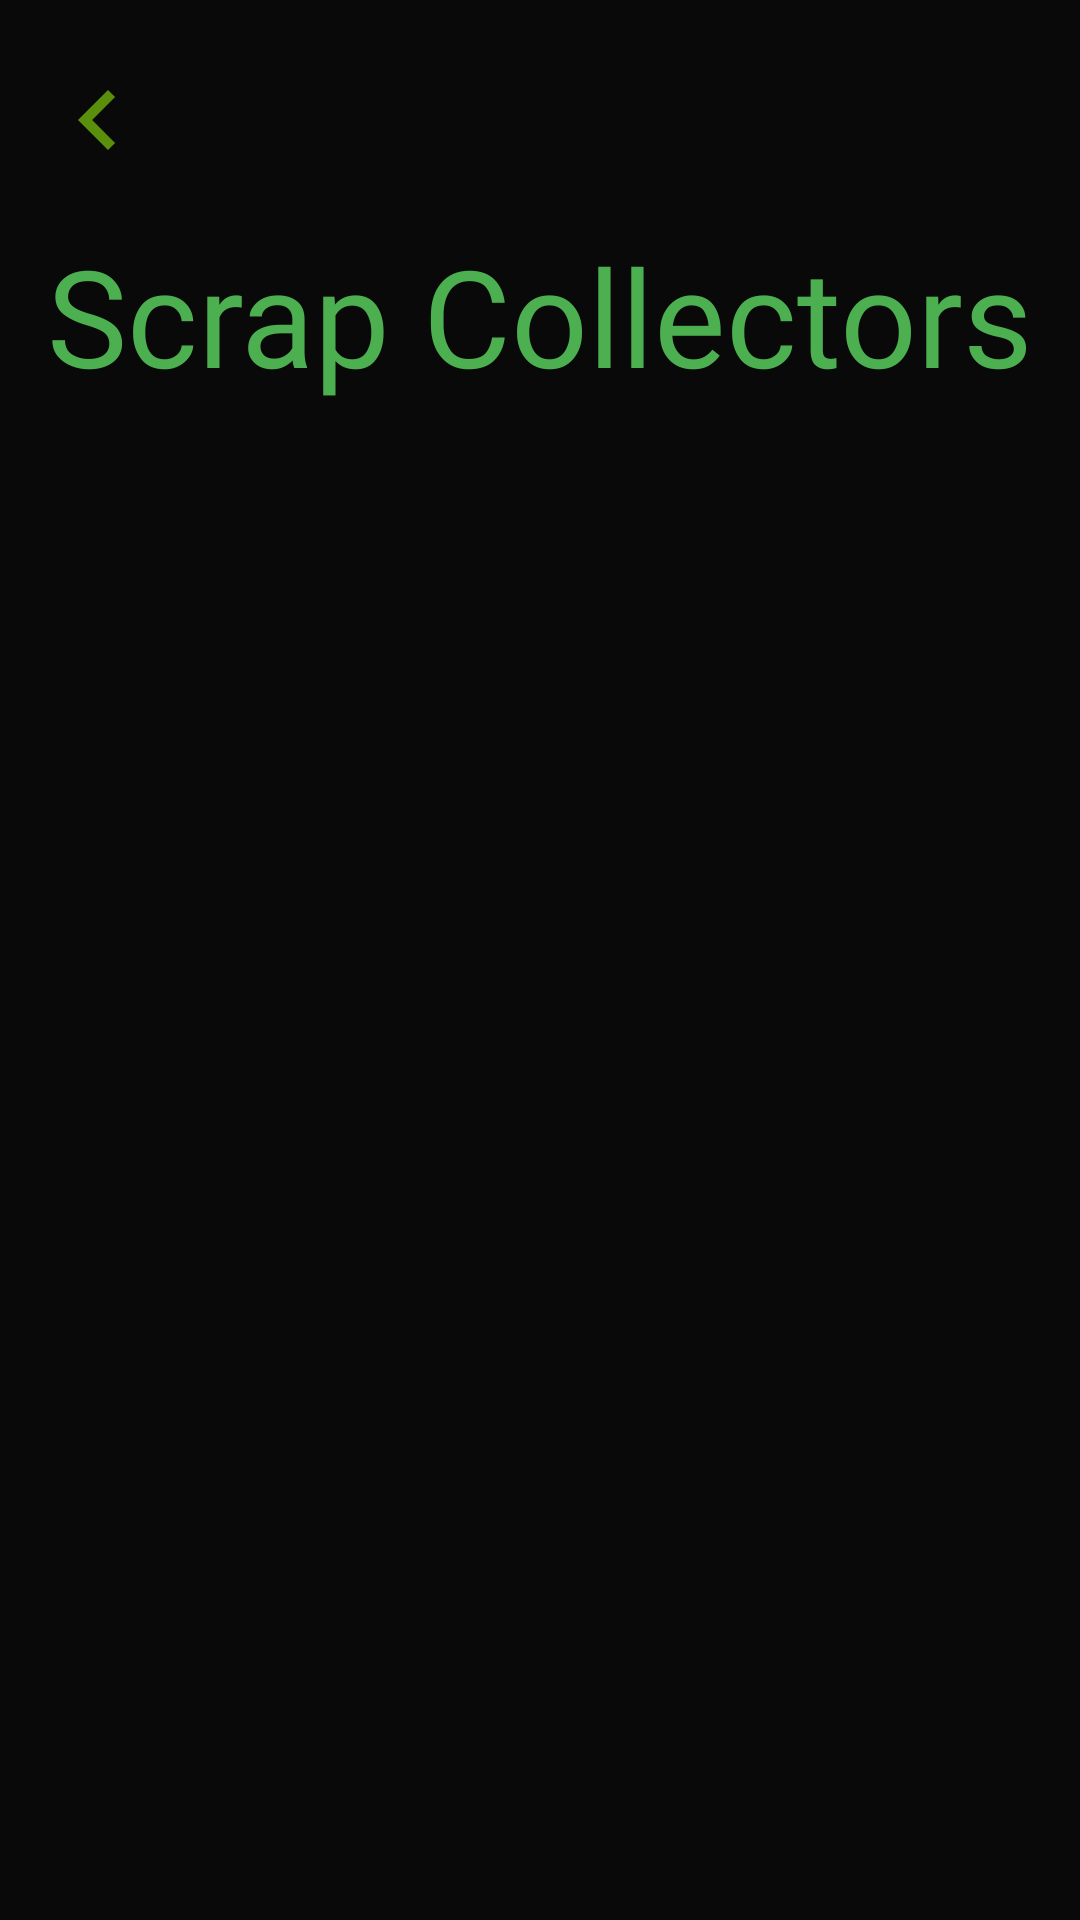

Icons on this 1080*1920 Android screen, each with its box as (x1, y1, x2, y2):
bkgreen: (78, 90, 115, 150)
